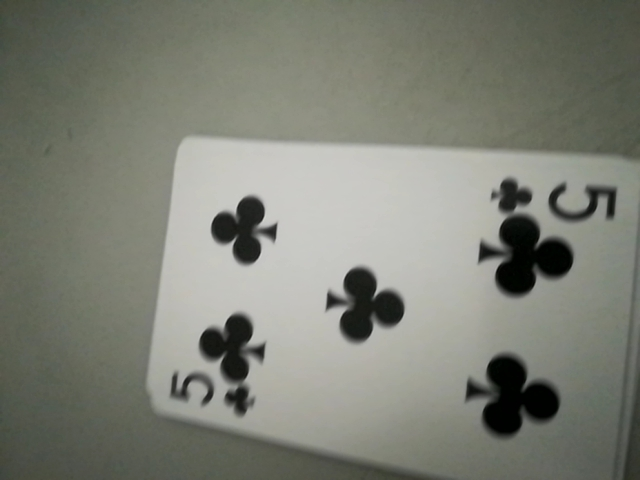mh 5: (490, 170, 615, 223), (164, 369, 260, 420)
